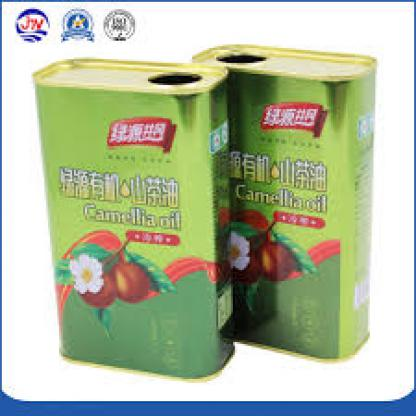METAL: (32, 56, 238, 377), (191, 43, 376, 360)
